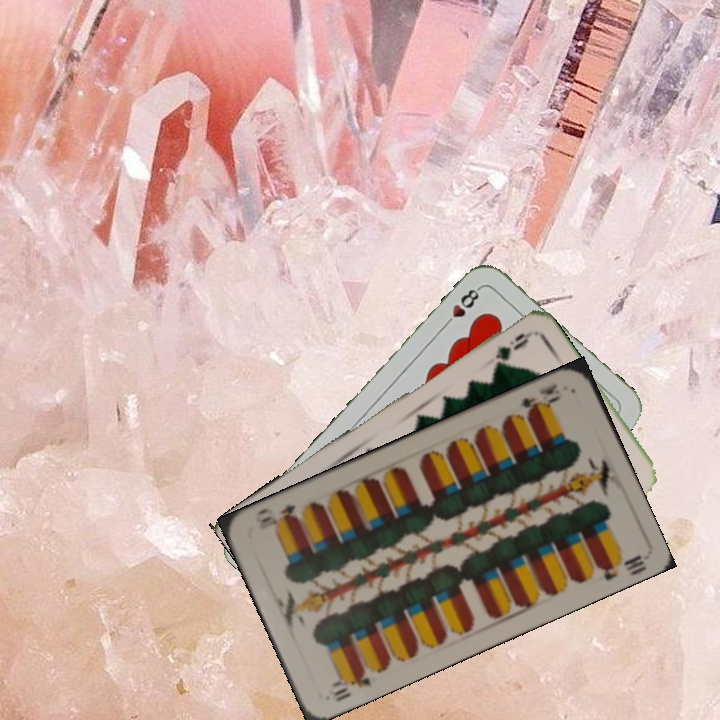E10: (515, 379, 563, 420), (328, 665, 374, 705)
G9: (491, 328, 534, 362)
H8: (439, 283, 484, 331)
